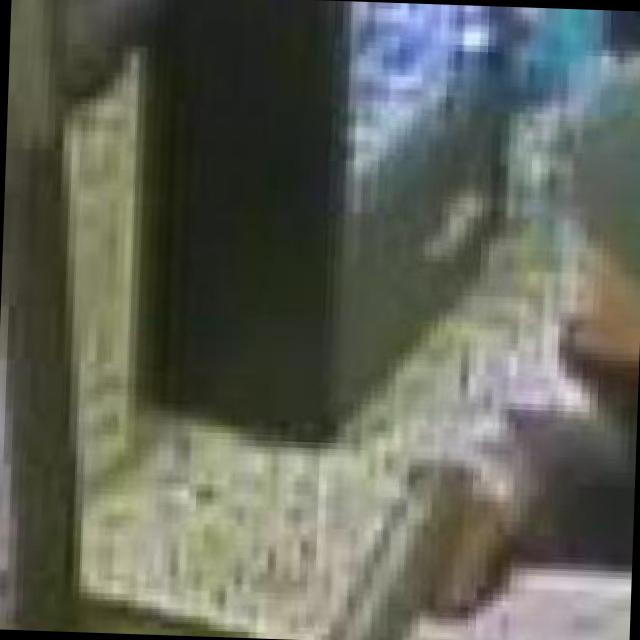Guns: (257, 434, 508, 640)
